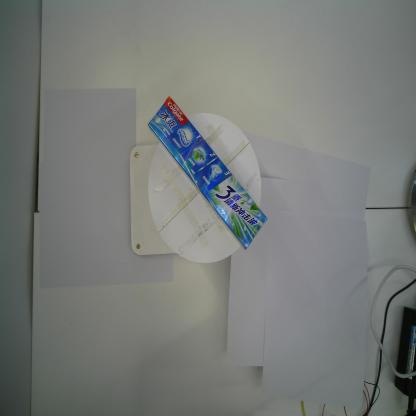Personal Hygiene: (145, 94, 269, 251)
